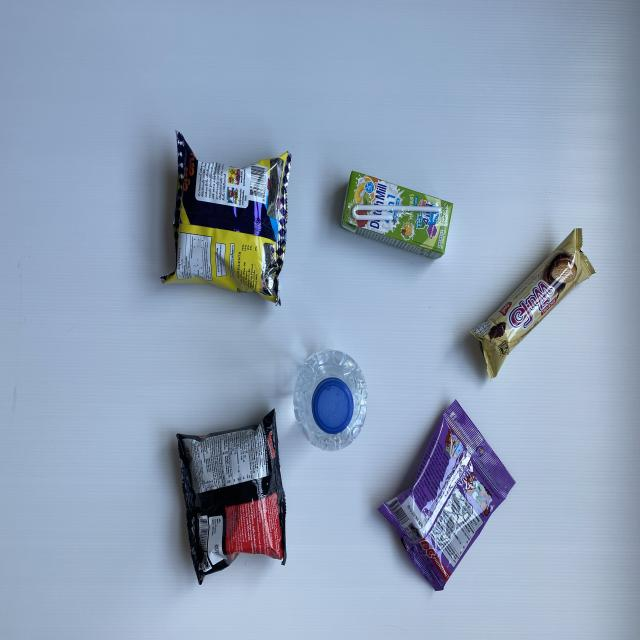candy: (375, 398, 518, 596)
cracker: (469, 225, 598, 382)
milk: (339, 170, 454, 260)
snack: (157, 131, 296, 308), (172, 406, 288, 582)
water: (292, 347, 371, 453)
